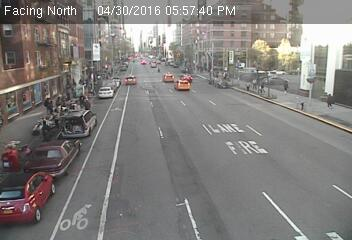neg: (288, 8, 310, 37), (331, 119, 349, 142), (20, 14, 37, 38), (172, 65, 188, 87), (24, 147, 39, 166), (303, 50, 318, 69), (99, 97, 113, 117), (239, 120, 252, 138), (106, 40, 119, 57), (328, 22, 341, 39), (331, 52, 344, 69), (256, 49, 269, 66), (214, 26, 226, 41), (297, 96, 308, 111), (66, 148, 77, 163), (321, 35, 332, 49), (235, 49, 245, 63), (153, 61, 161, 73)
pos: (42, 96, 57, 116), (80, 96, 95, 115), (323, 91, 337, 110), (258, 82, 269, 98), (282, 79, 292, 93)
